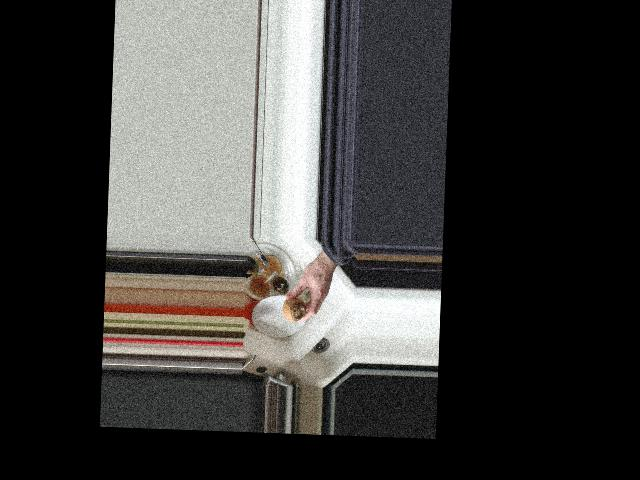sweet_potato: (281, 290, 307, 323)
